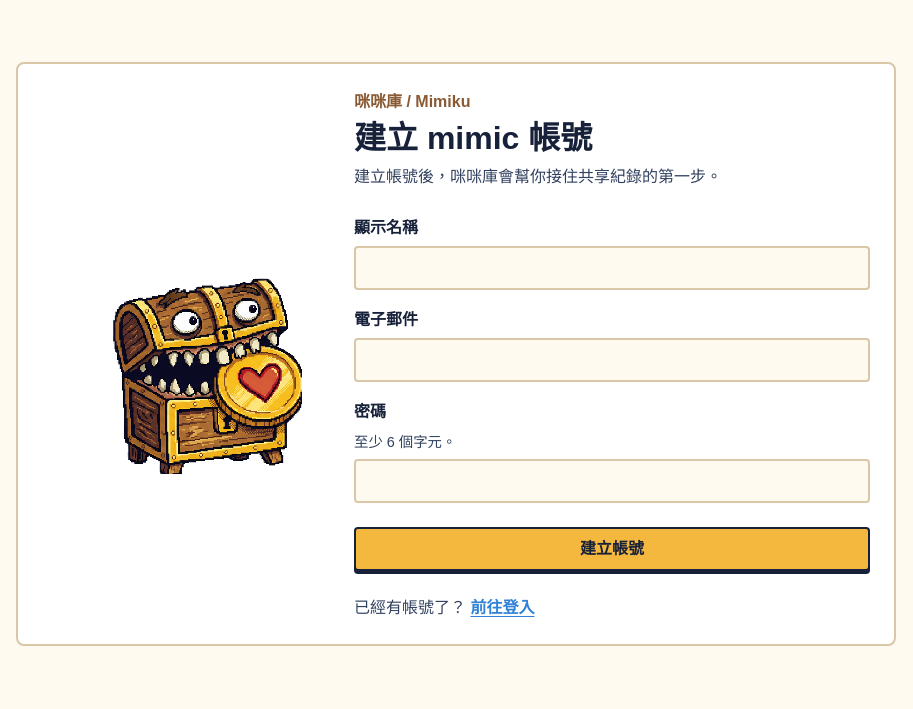
Test: AuthForm › shows recovery-first copy for EMAIL_ALREADY_REGISTERED
Step 1. Type "咪寶" into the field labelled "顯示名稱" → (612, 268), box [354,246,870,290]
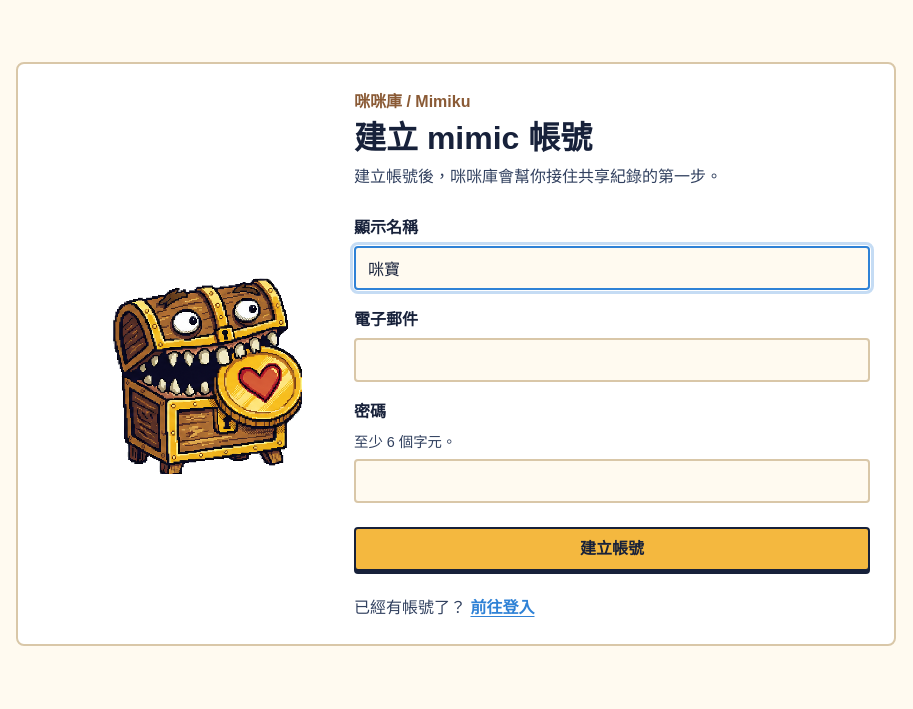
Step 2. Type "mibo@example.com" into the field labelled "電子郵件" → (612, 360), box [354,338,870,382]
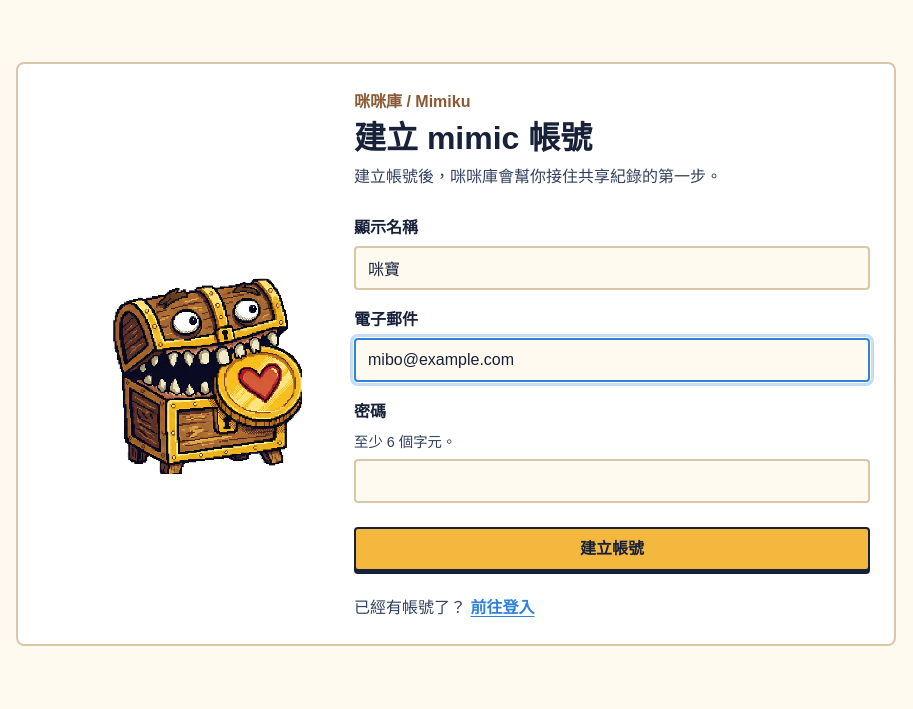
Step 3. Type "correct-password" into the password field labelled "密碼" → (612, 481), box [354,459,870,503]
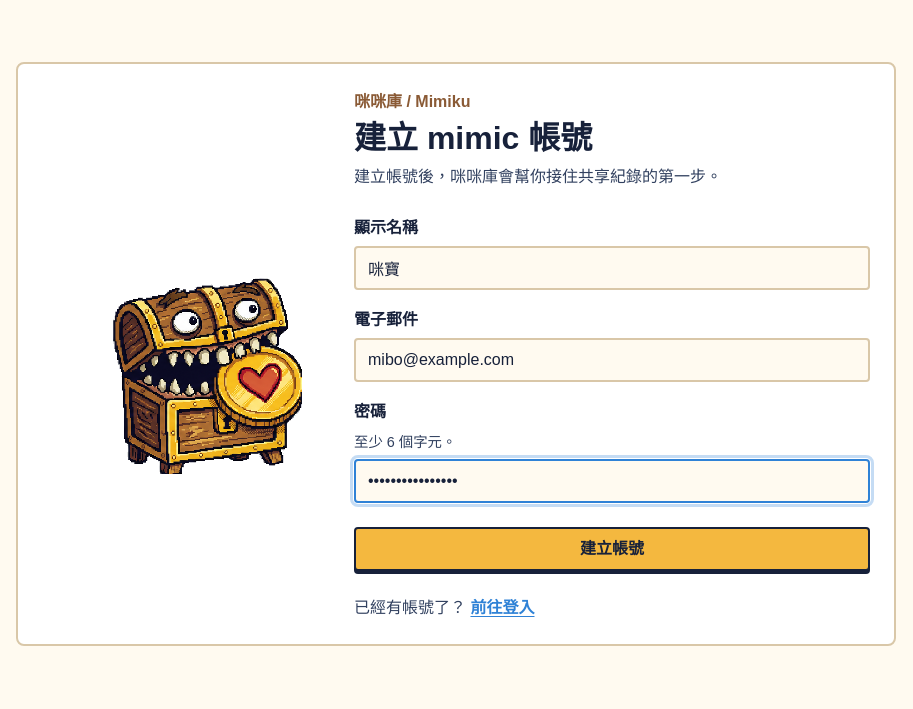
Step 4. Click the button "建立帳號" → (612, 549), box [354,527,870,571]
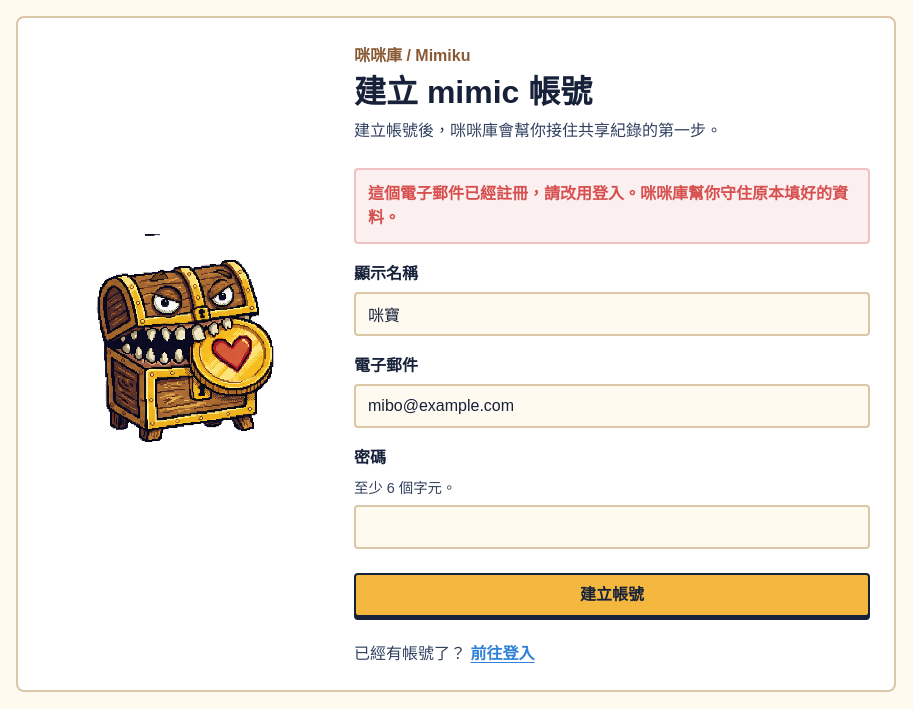
Expected: the text "這個電子郵件已經註冊，請改用登入。咪咪庫幫你守住原本填好的資料。" is shown, [354,168,870,244]
